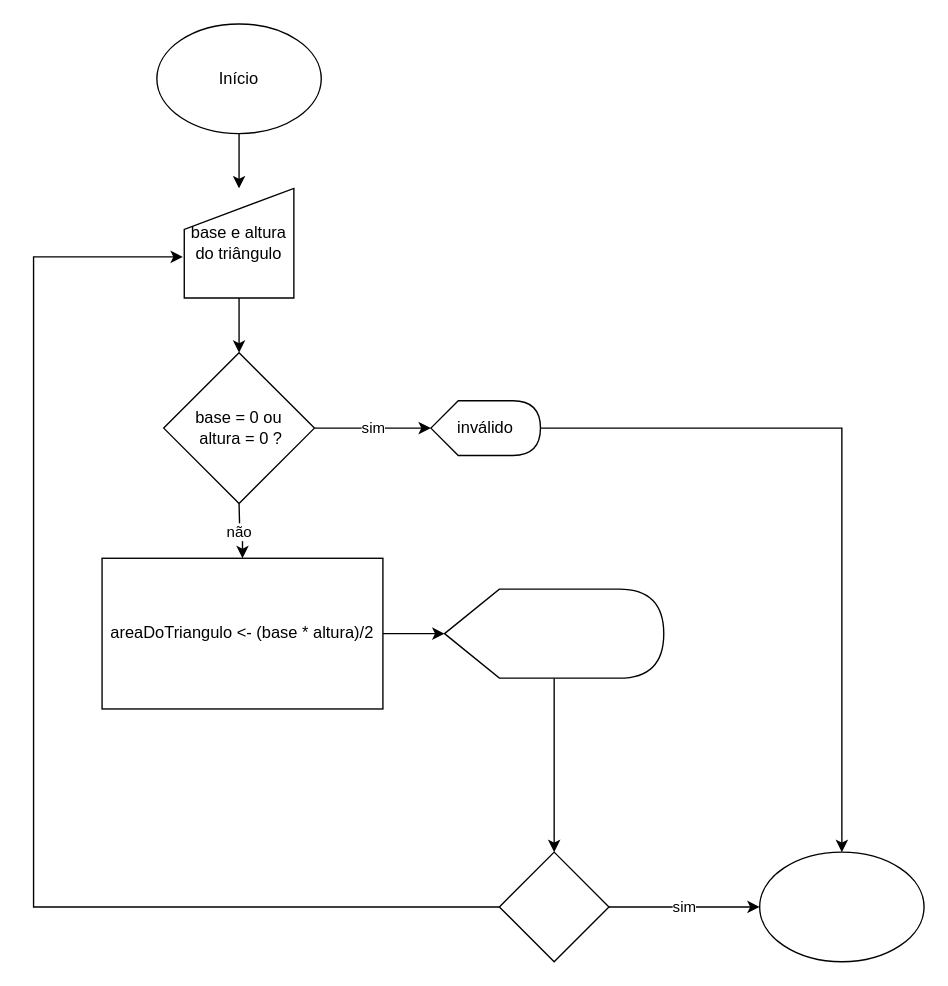
Some shapes in this 948 by 986 pixel diagram are drawn without their labels. Here are the shapes that lost their labels. From the top down, the centre of each, then its label:
point 553,633: "A área do triângulo é:" <areaDoTriangulo>
point 553,906: Deseja realizar outro calculo?
point 841,906: Fim
